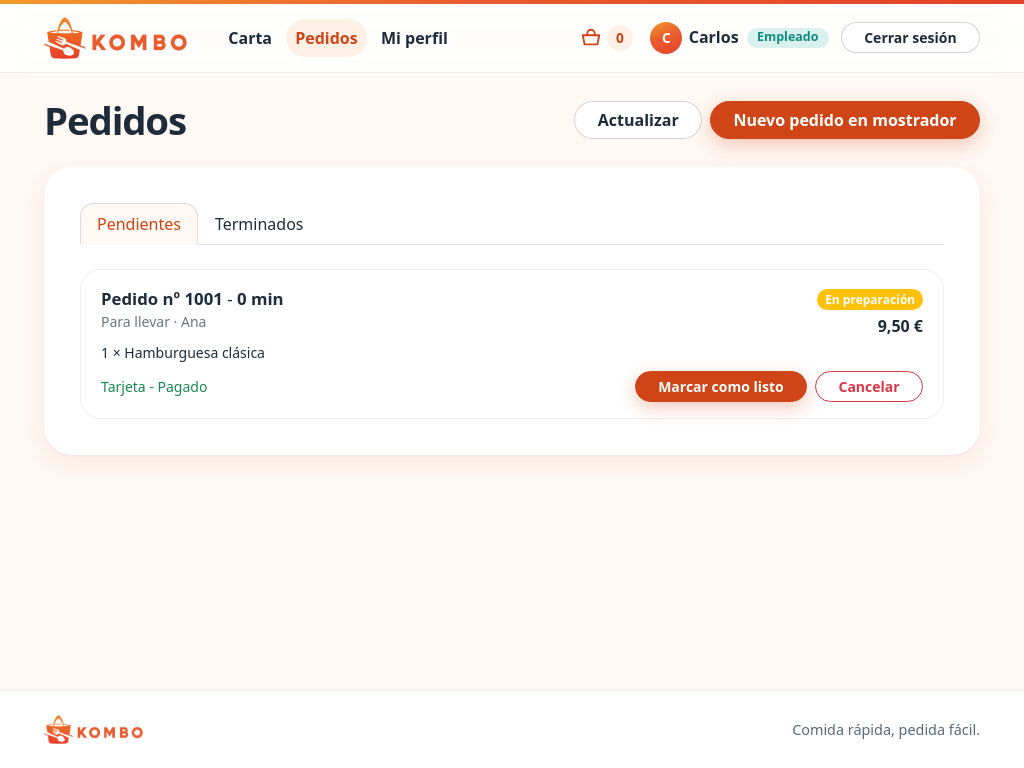
OrdersDashboardPage › marks an order as ready and reloads the lists
Click the button "Marcar como listo" at (721, 386), box [635,371,807,402]
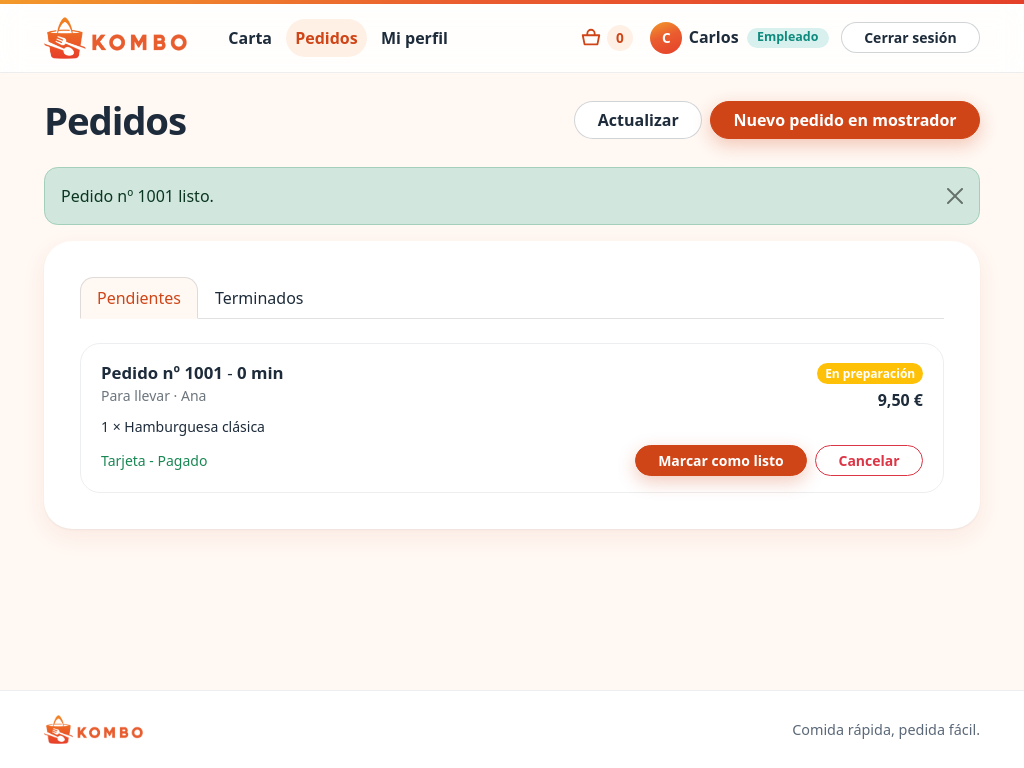
Check: the text "Pedido nº 1001 listo." is shown, box [44,167,980,225]
